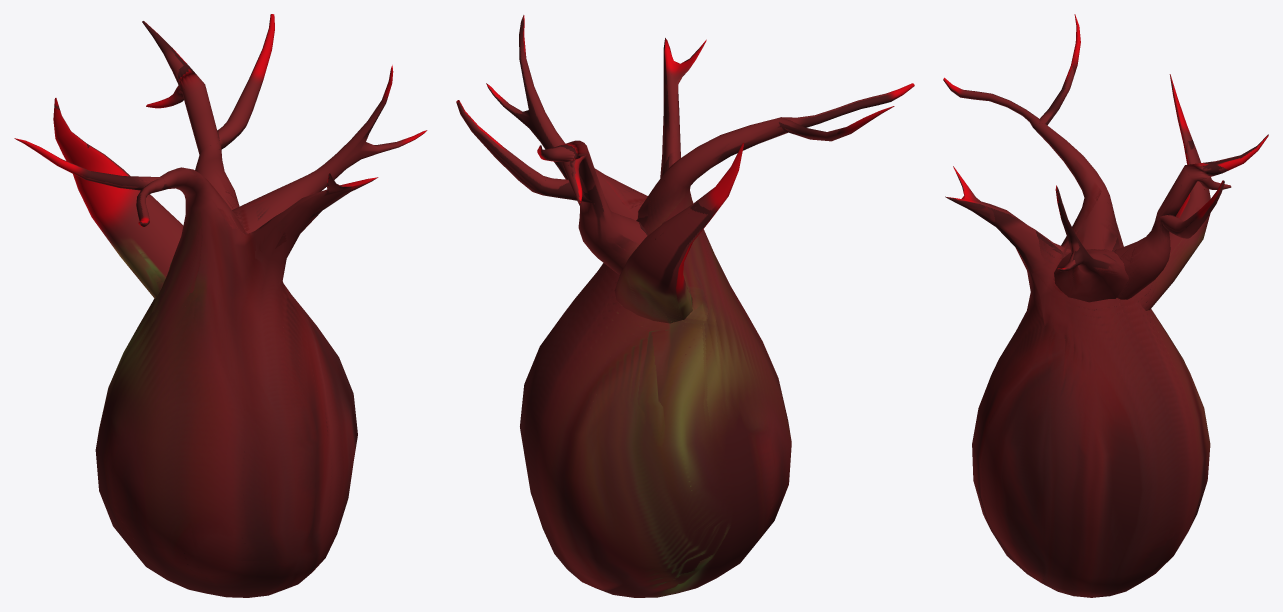
File: Fat_tree_004.fbx
The picture shows the model from 3 angles, left to right: view 1: azimuth 30°, elevation 25°; view 2: azimuth 150°, elevation 25°; view 3: azimuth 270°, elevation 25°; orthographic projection. The views are drawn at different scales.
Parts seen in each view (by area): view 1: Tree_Fat_002.001; view 2: Tree_Fat_002.001; view 3: Tree_Fat_002.001.
Part boxes in pixels (x1=…): Tree_Fat_002.001: x1=14, y1=14, x2=427, y2=597; Tree_Fat_002.001: x1=456, y1=15, x2=914, y2=597; Tree_Fat_002.001: x1=943, y1=14, x2=1268, y2=597.
Bounding box in the file's own units: 4695 × 5706 × 3601.
